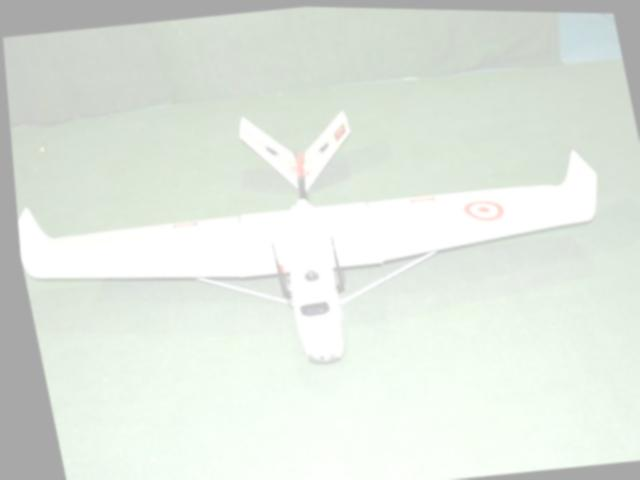iha: (4, 64, 638, 409)
